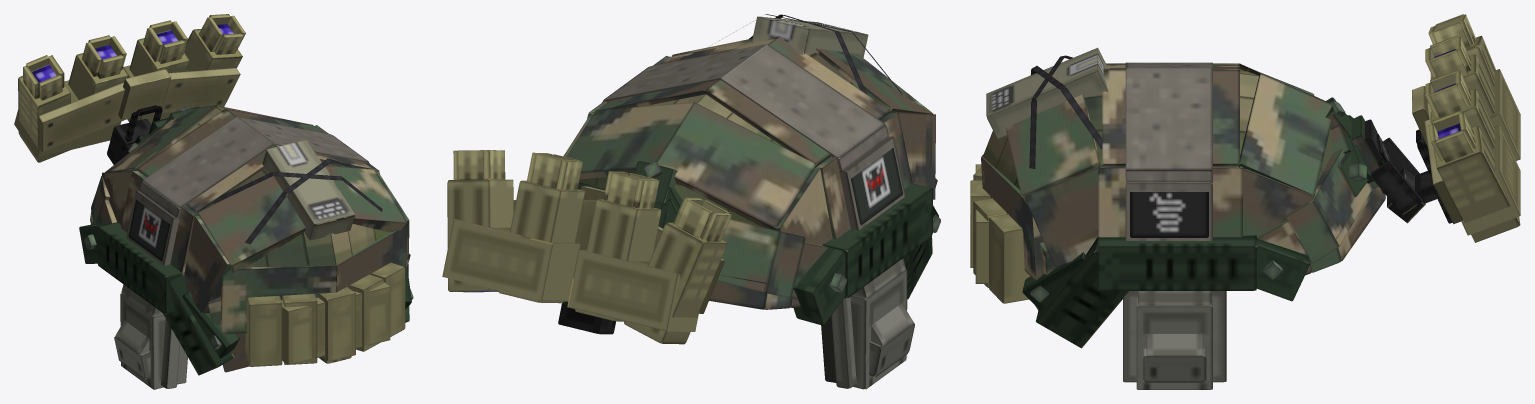
File: gpnvg_h.obj
The picture shows the model from 3 angles, left to right: view 1: azimuth 30°, elevation 25°; view 2: azimuth 150°, elevation 25°; view 3: azimuth 270°, elevation 25°; orthographic projection. The views are drawn at different scales.
Visible parts, largest first — view 1: gpnvh_h; view 2: gpnvh_h; view 3: gpnvh_h.
Boxes of the visible parts, box(x1,y1,x2,y2) form: gpnvh_h: box(14, 14, 413, 389); gpnvh_h: box(442, 14, 940, 389); gpnvh_h: box(970, 14, 1520, 389).
Bounding box in the file's own units: 0.7742 × 0.671 × 1.26.
